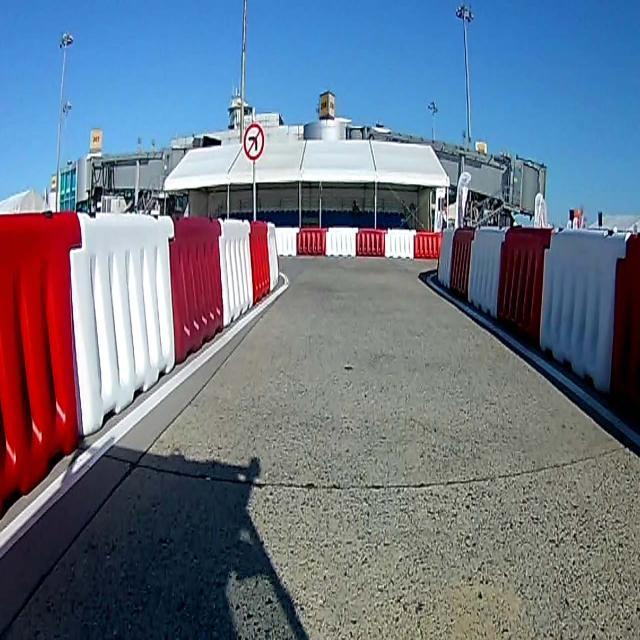soladonulmez: (242, 124, 264, 156)
